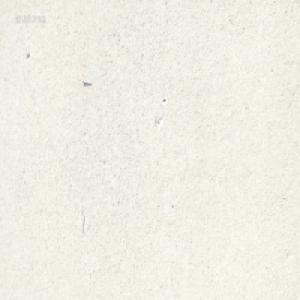Nail: (82, 78, 92, 84)
